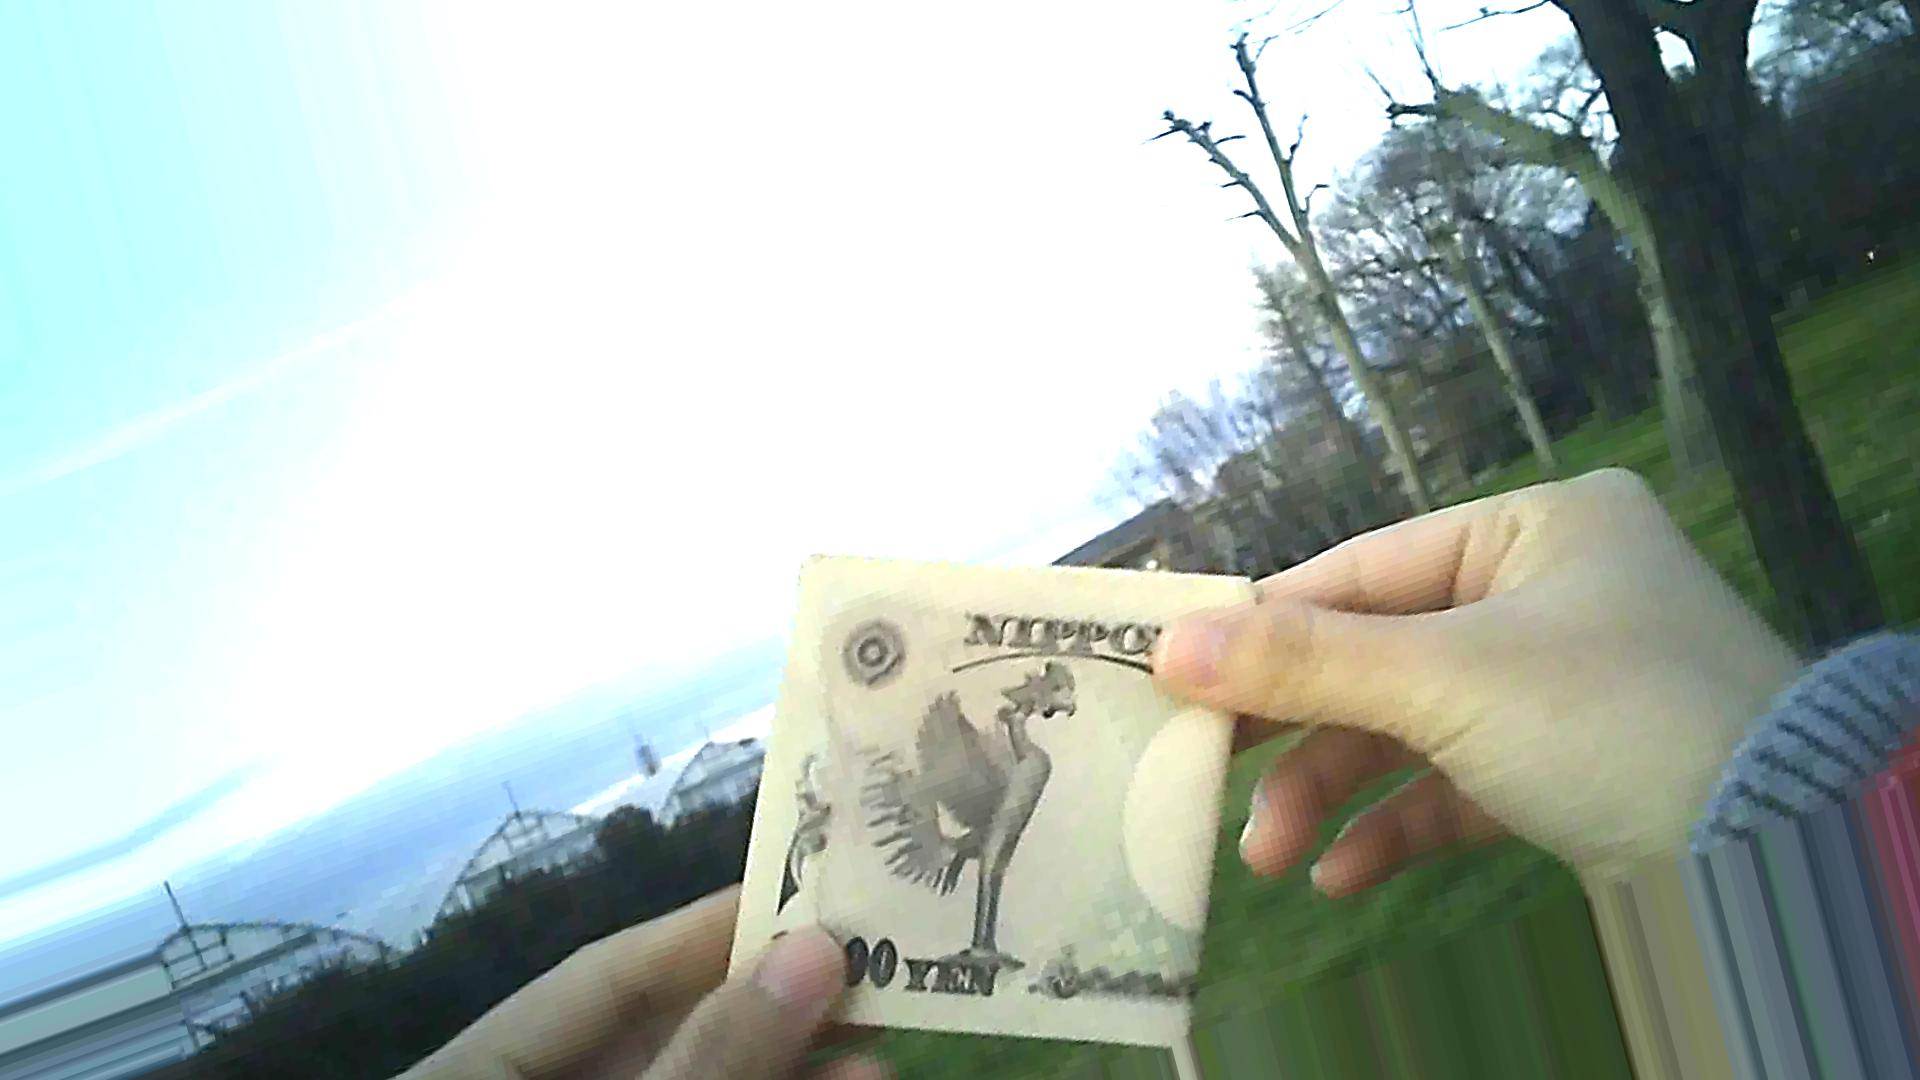10,000 Yen: (715, 530, 1236, 1063)
